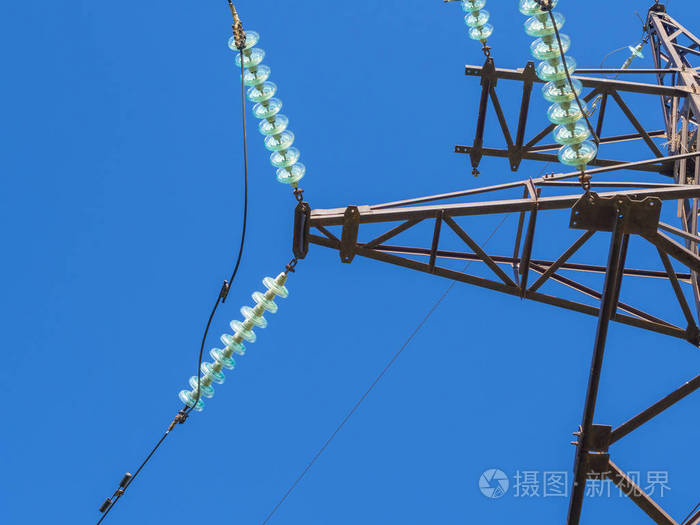insulator: (178, 274, 290, 415), (520, 1, 597, 164), (228, 30, 307, 185), (460, 1, 495, 39)
